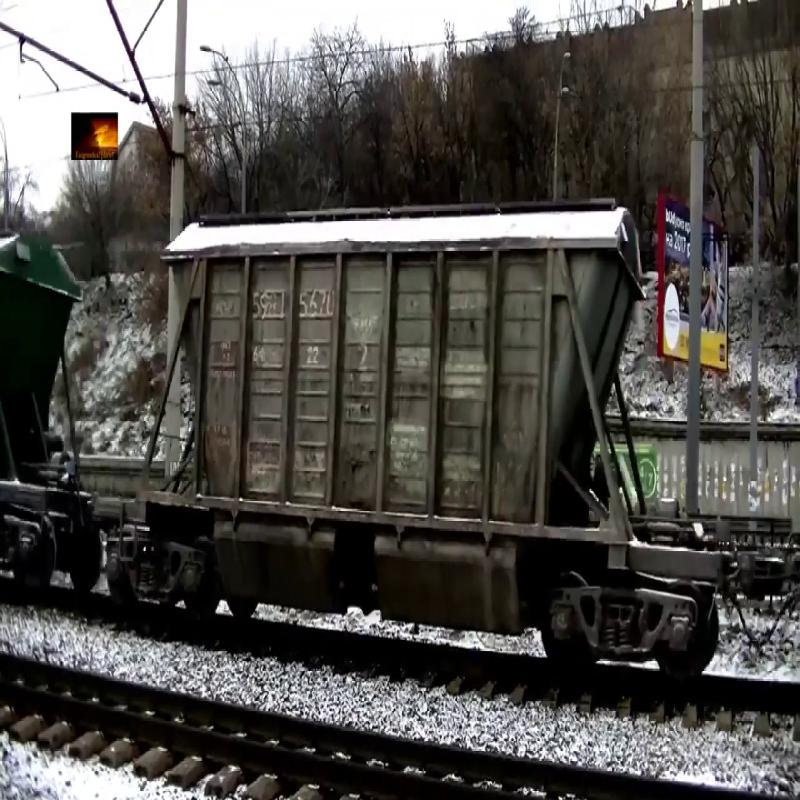train: (134, 192, 655, 619), (3, 218, 85, 538)
